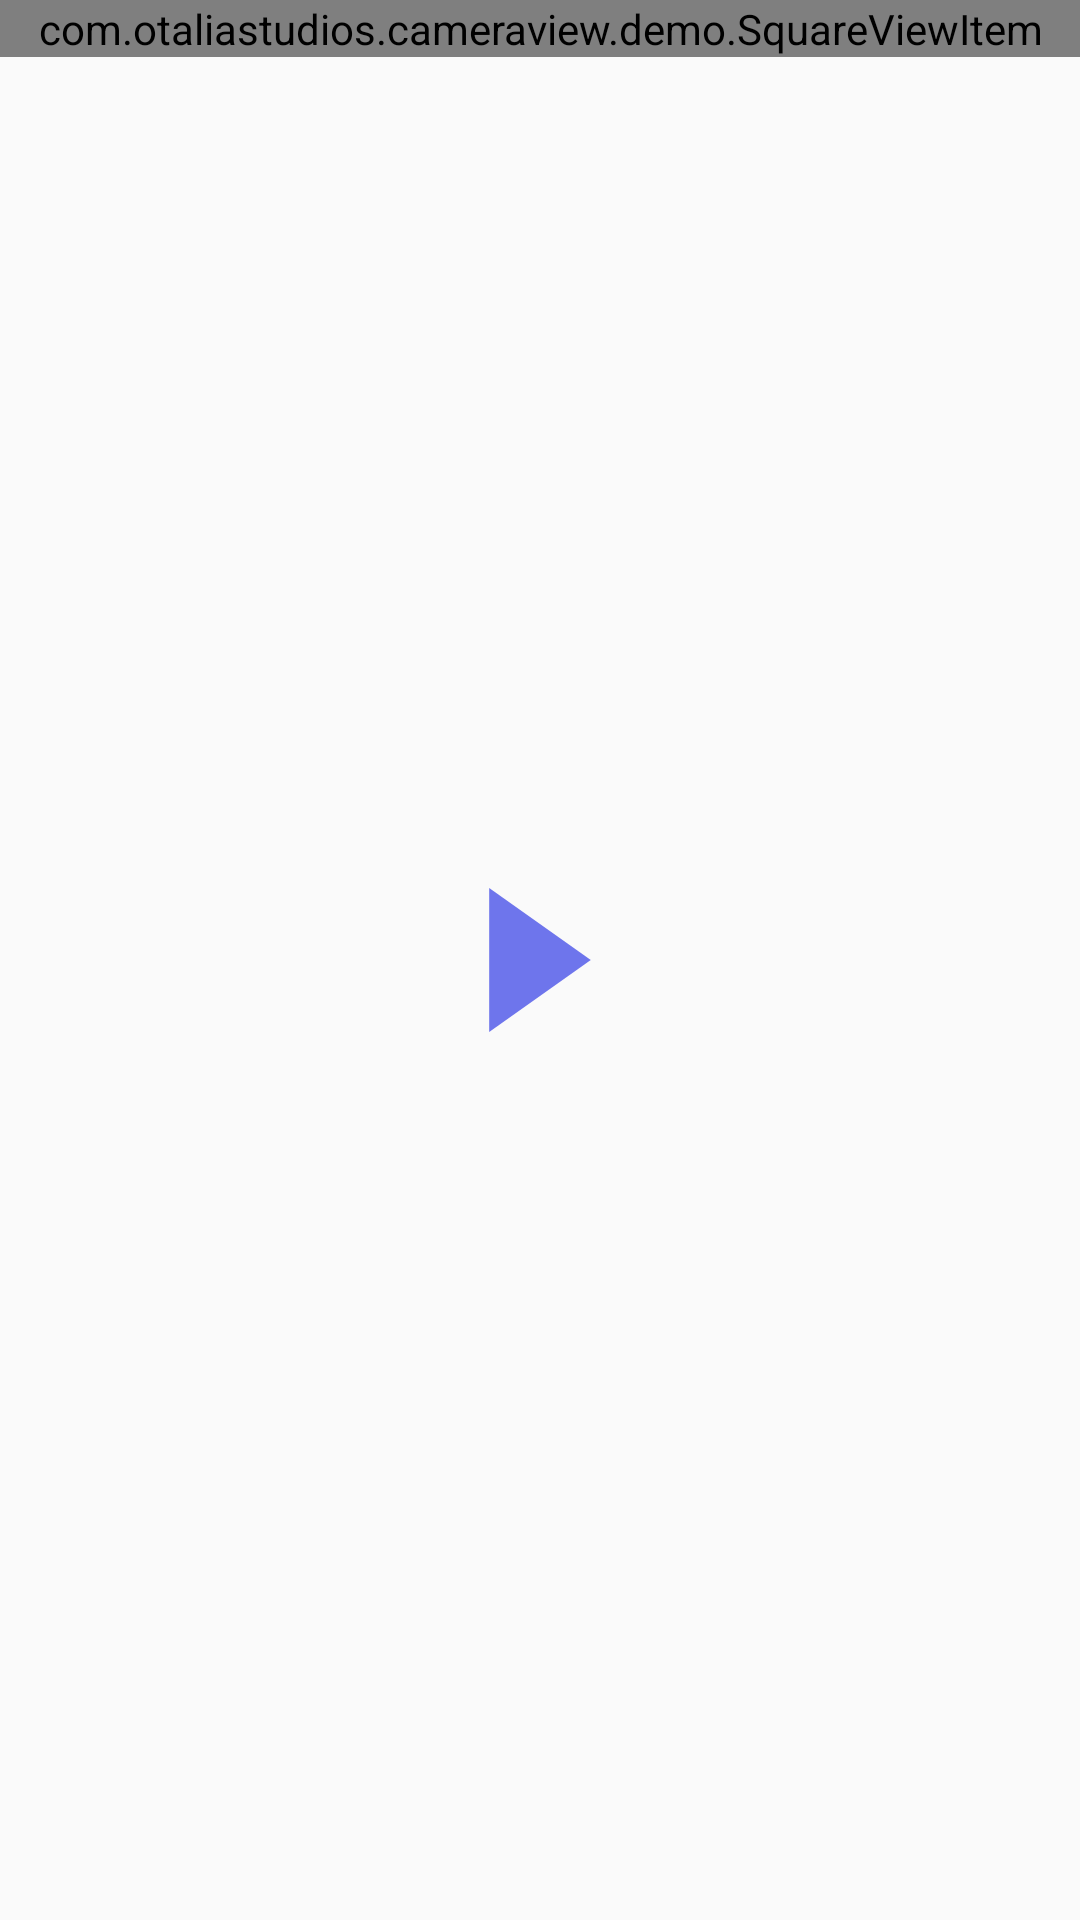

Icons on this 1080px x 1920px Android screen, each with its box as bbox(x1, y1, x2, y2):
play: bbox(489, 888, 591, 1032)
